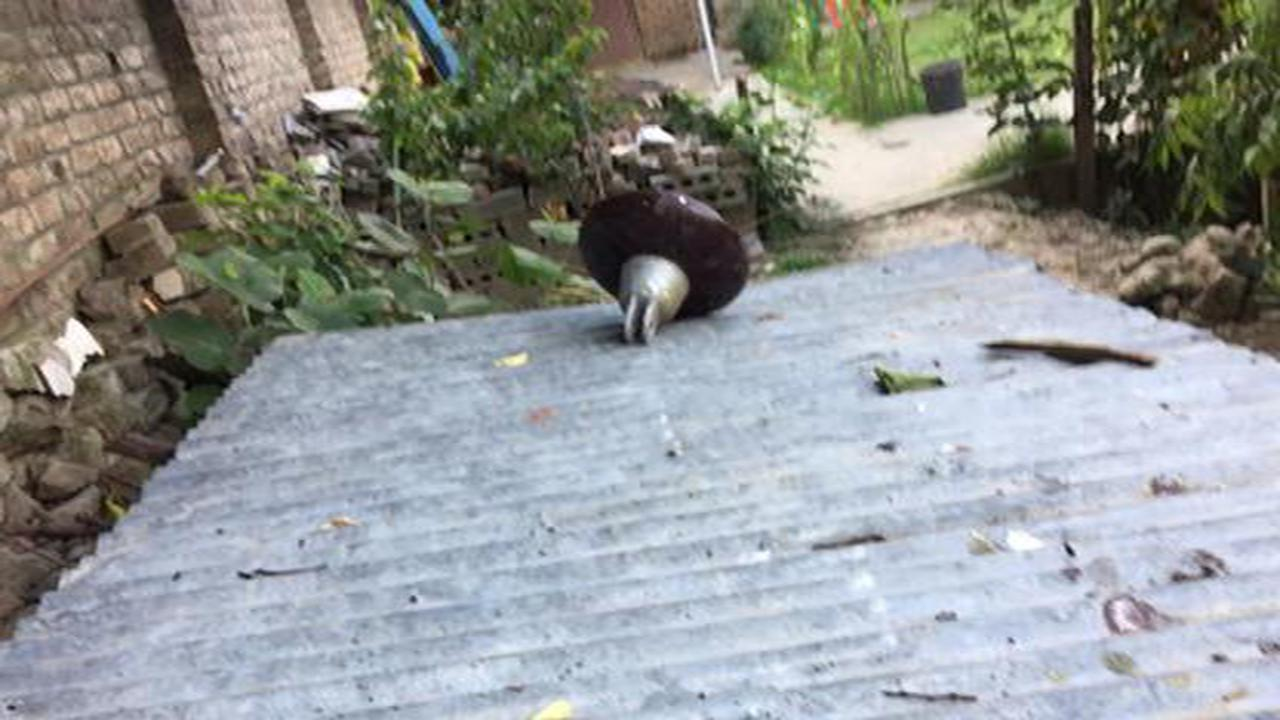insulator_disc: (573, 185, 754, 351)
